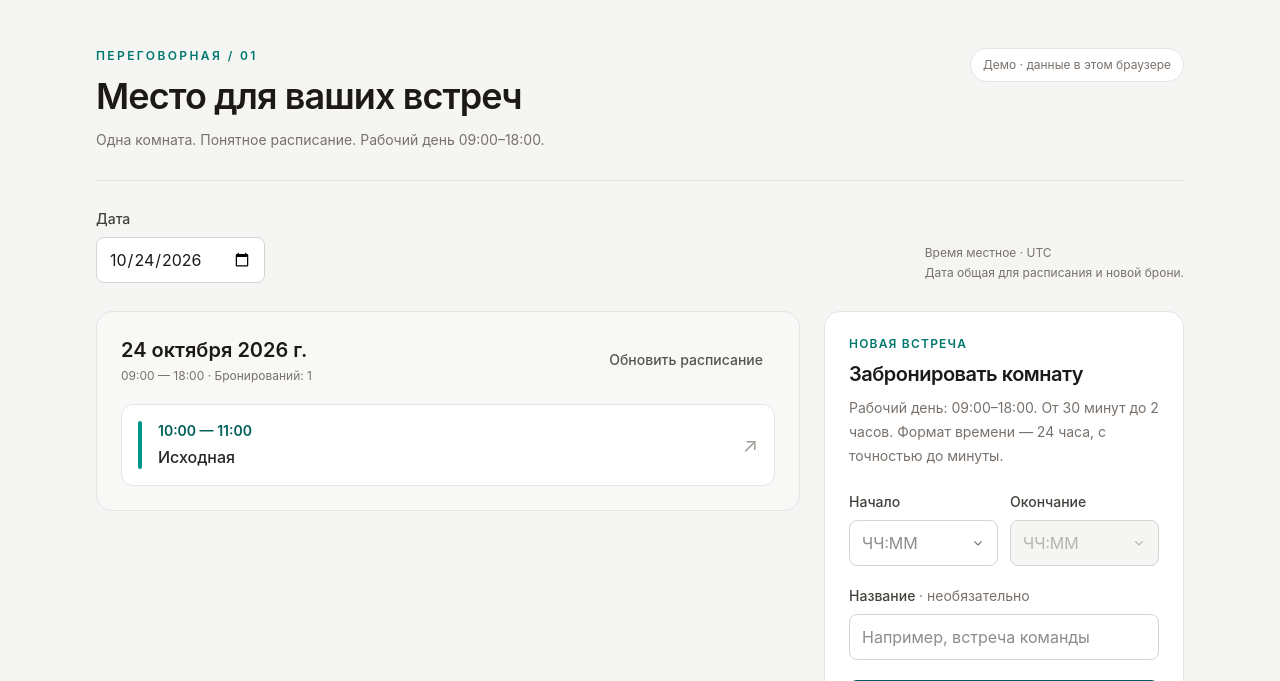
Test: booking UI through real HTTP handlers › preserves the edit draft when another client has deleted the record
Click the button with aria-label "Редактировать Исходная": point(177, 430) left=121, top=404, right=775, bottom=486
(page scrolled)
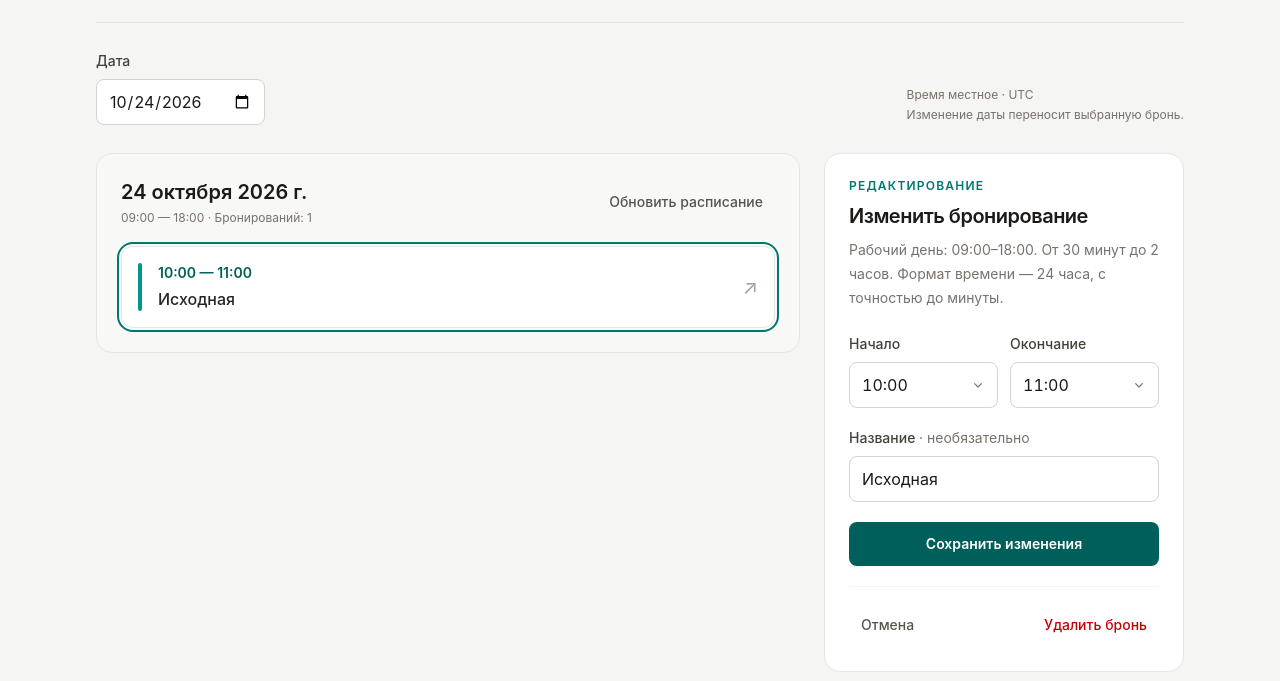
Click the button "Сохранить изменения": point(1004, 544) left=849, top=522, right=1159, bottom=566
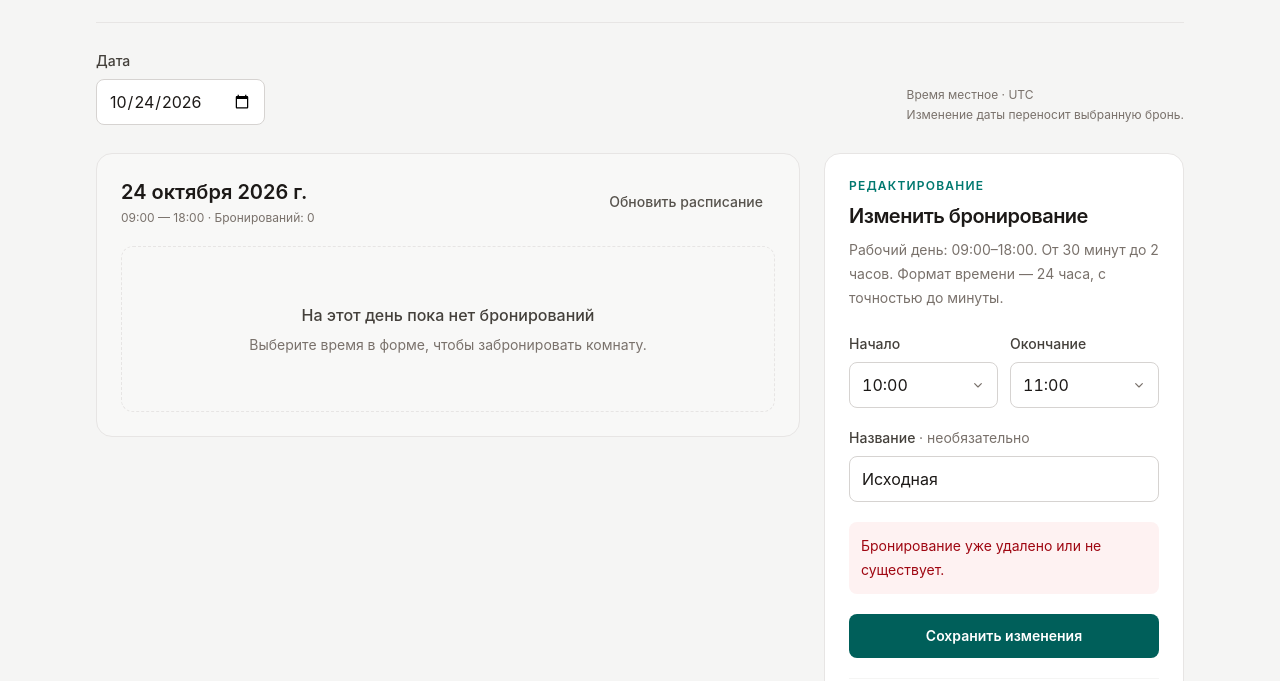
Expected: the field labelled "Название · необязательно" holds "Исходная", left=849, top=456, right=1159, bottom=502
Expected: the text "Бронирование уже удалено или не существует." is shown, left=849, top=522, right=1159, bottom=594
Expected: the text "На этот день пока нет бронирований" is shown, left=302, top=305, right=594, bottom=325
